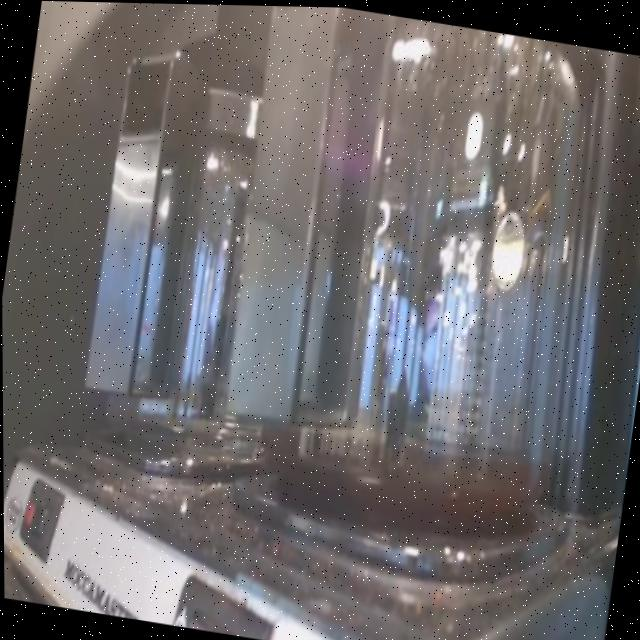coffee: (221, 4, 634, 584)
nocoffee: (51, 40, 334, 488)
